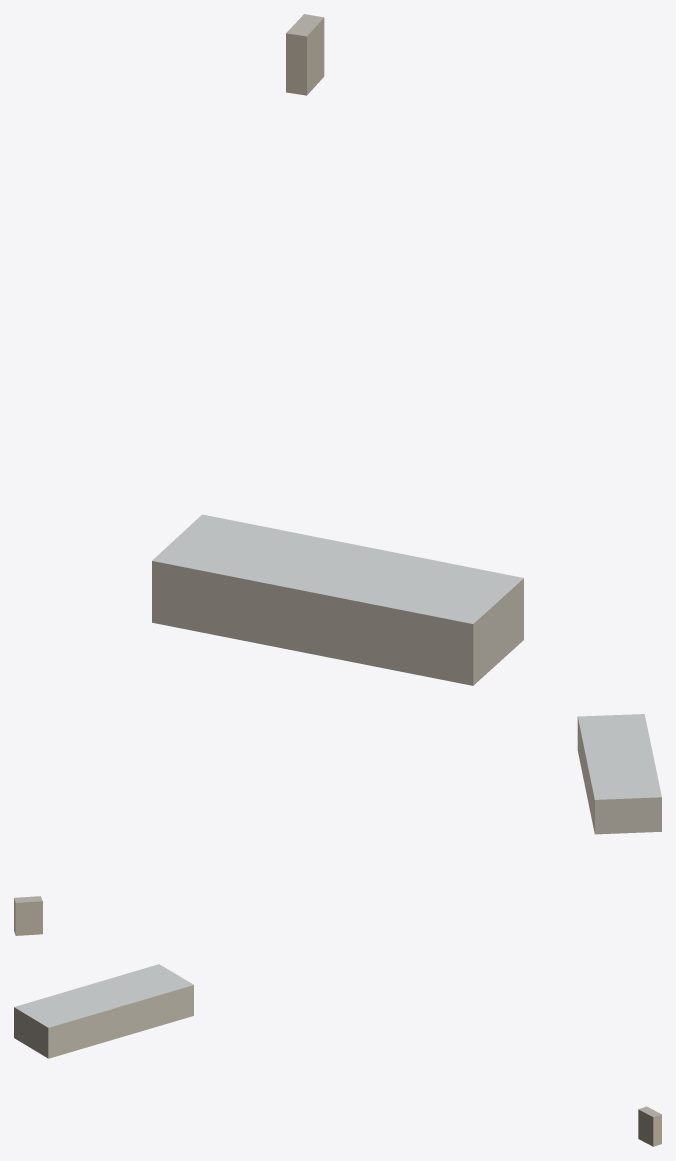
3 renders of one model, top to bottom at view 1: azimuth 30°, elevation 25°; view 2: azimuth 150°, elevation 25°; view 3: azimuth 270°, elevation 25°, orthographic. The views are drawn at different scales.
Parts seen in each view (by area): view 1: tuile; view 2: tuile; view 3: tuile.
Boxes of the visible parts, box(x1,y1,x2,y2) form: tuile: box(152, 14, 523, 685); tuile: box(14, 714, 661, 935); tuile: box(14, 964, 661, 1146).
Size of the model in its own units: 85.9 by 9.94 by 145.
